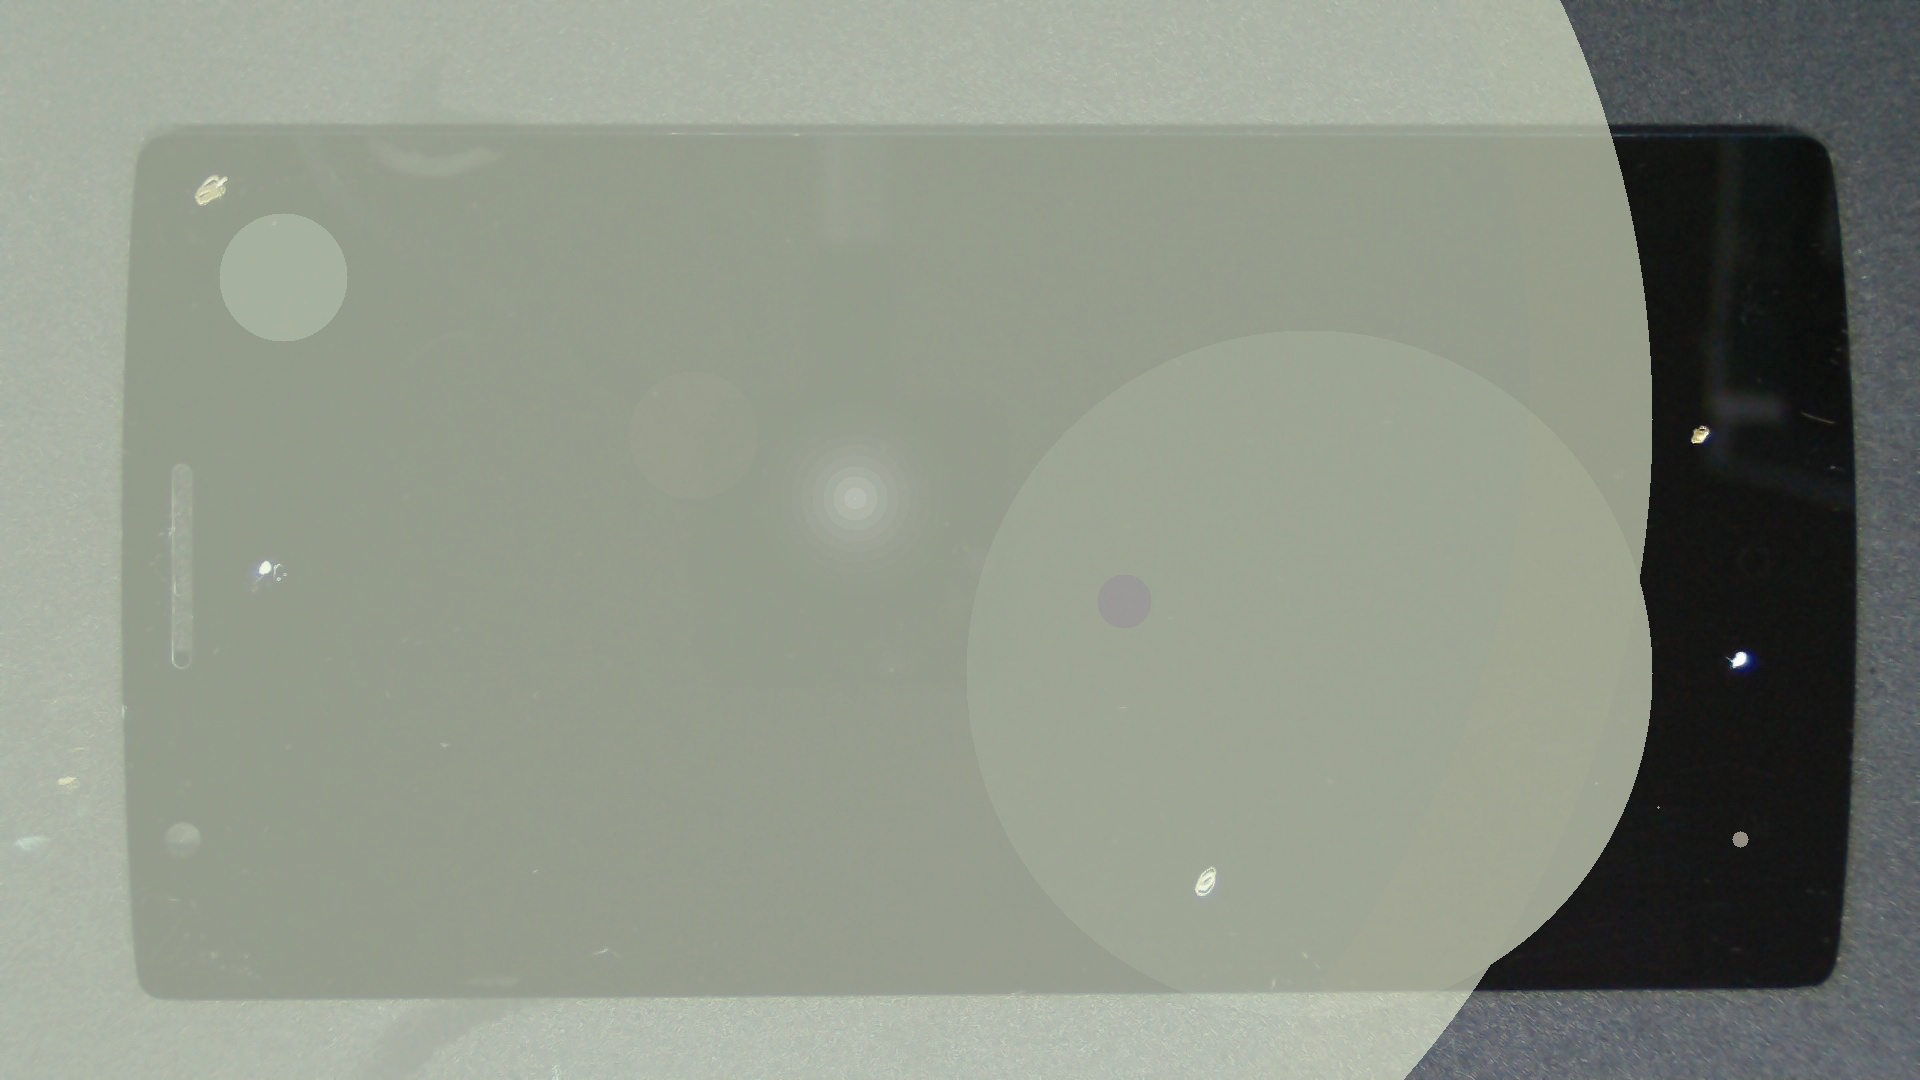oil: (607, 431, 1817, 1080), (870, 324, 1920, 976), (851, 211, 1920, 637), (135, 280, 400, 839), (107, 86, 318, 260)
